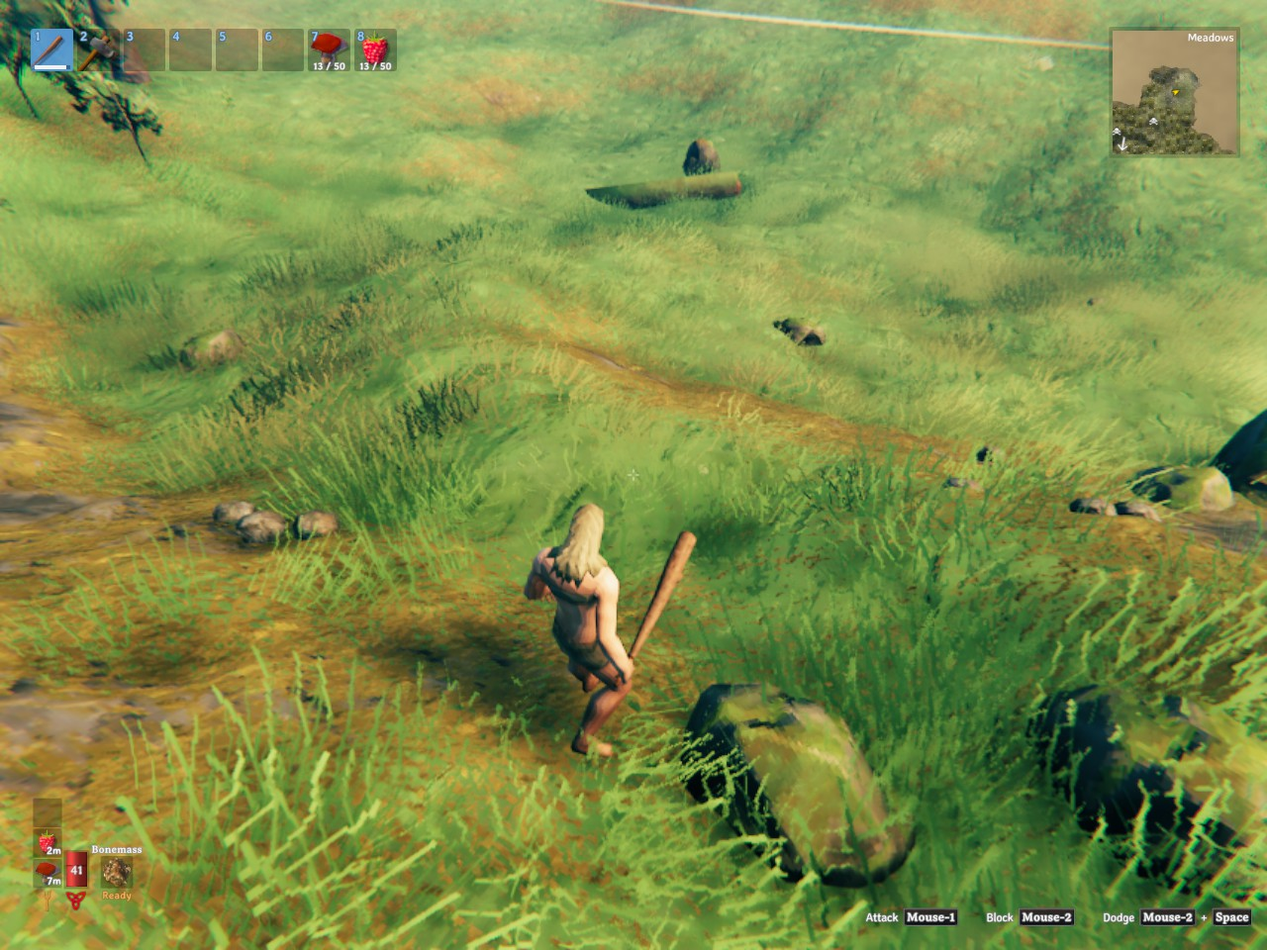Stone: (237, 511, 285, 542), (291, 511, 339, 539), (213, 501, 255, 524), (1116, 501, 1160, 521), (1069, 498, 1115, 513)
